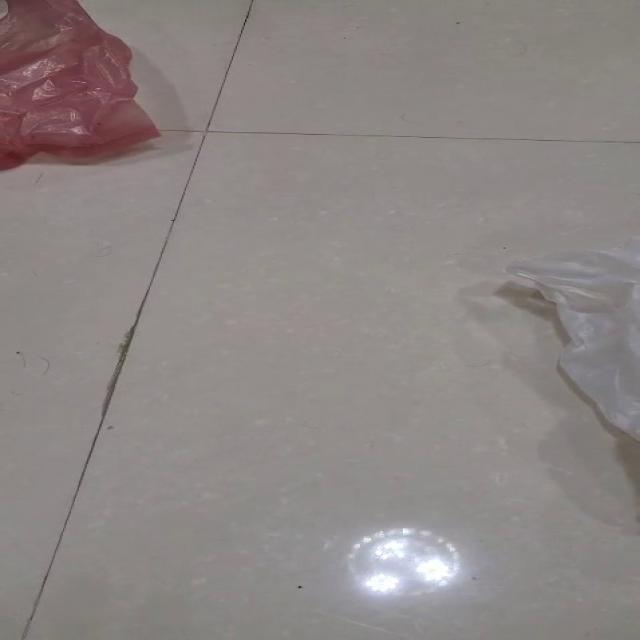plastic: (502, 237, 639, 441), (0, 0, 161, 171)
